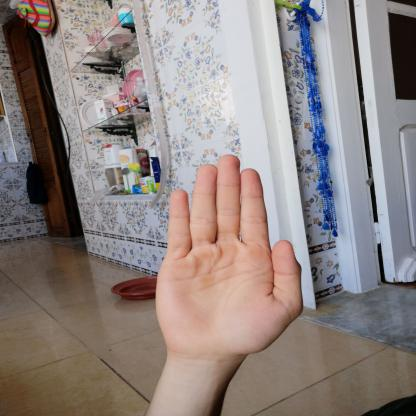SEEN: (141, 146, 311, 365)
